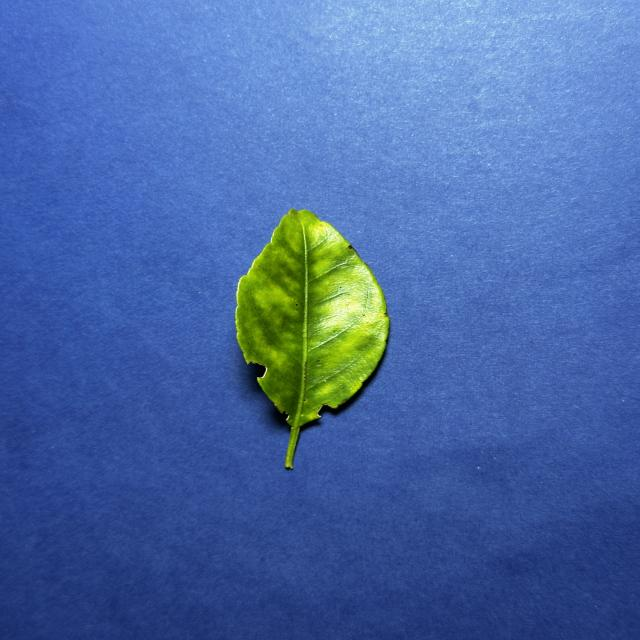greening: (235, 209, 388, 468)
